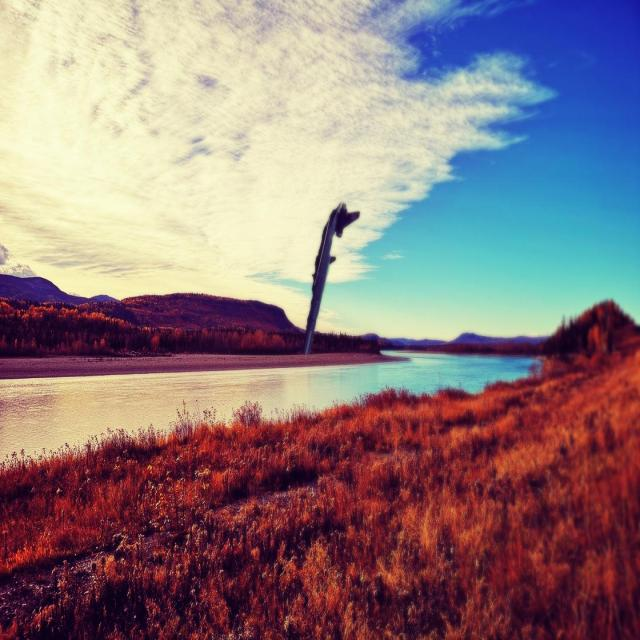airplane: (302, 201, 360, 354)
